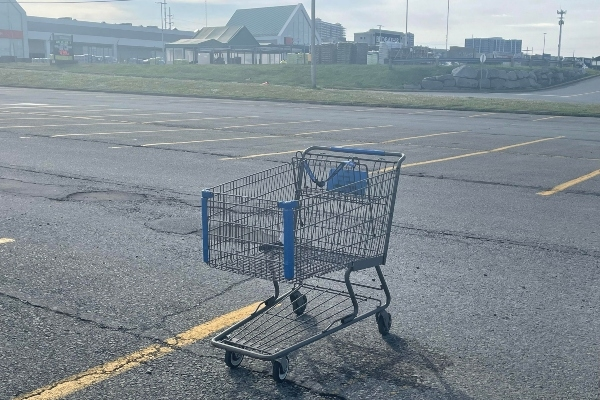shopping_cart: (196, 138, 406, 381)
